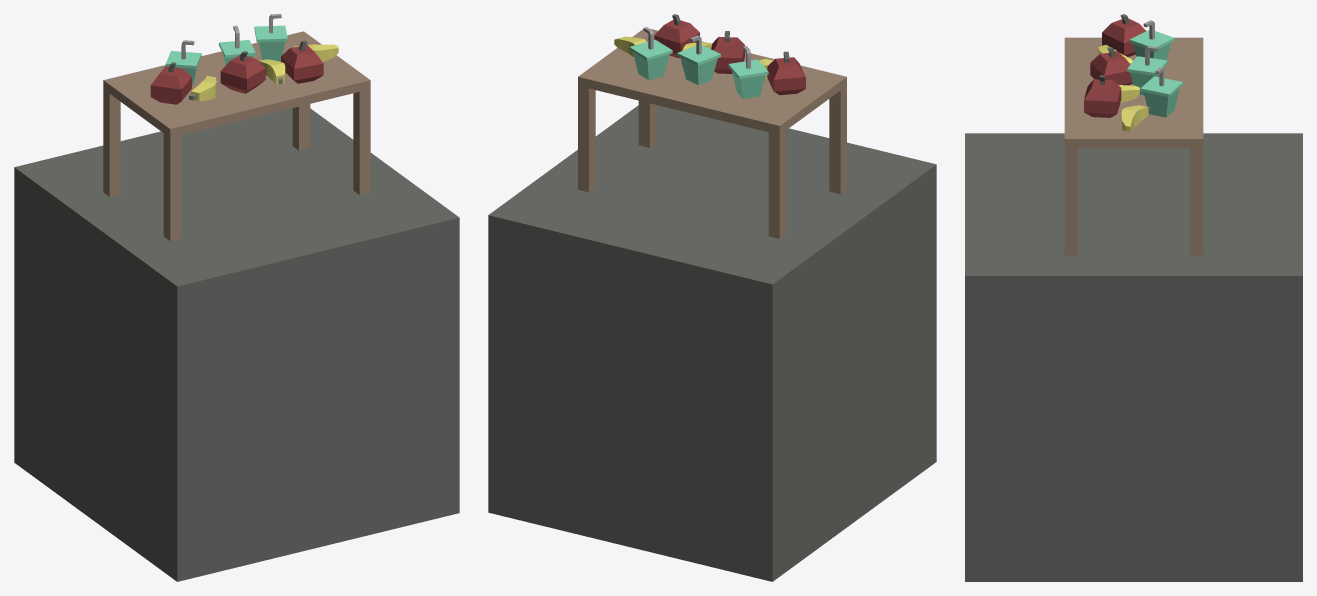
Rendered from food_block.fbx.
The picture shows the model from 3 angles, left to right: view 1: azimuth 30°, elevation 25°; view 2: azimuth 150°, elevation 25°; view 3: azimuth 270°, elevation 25°; orthographic projection. The views are drawn at different scales.
Visible parts, largest first — view 1: food_block, table2, apple1, apple2, food_block1, food_drink7, food_drink9, food_drink8; view 2: food_block, table2, food_drink8, food_drink7, apple2, food_drink9, food_block1, apple1; view 3: food_block, table2, food_block1, food_drink7, apple1, apple2, food_drink9, food_drink8, banana1.
Boxes of the visible parts, x1,y1,x2,y2 form: food_block: [14, 108, 459, 581]; table2: [103, 31, 370, 241]; apple1: [220, 51, 265, 93]; apple2: [150, 62, 191, 104]; food_block1: [281, 40, 323, 83]; food_drink7: [254, 14, 287, 61]; food_drink9: [165, 40, 201, 85]; food_drink8: [219, 25, 255, 65]; food_block: [488, 105, 936, 581]; table2: [578, 29, 846, 238]; food_drink8: [677, 35, 720, 85]; food_drink7: [629, 27, 672, 80]; apple2: [767, 51, 805, 95]; food_drink9: [728, 46, 768, 98]; food_block1: [654, 14, 699, 58]; apple1: [711, 31, 744, 73]; food_block: [965, 133, 1302, 581]; table2: [1064, 37, 1203, 255]; food_block1: [1084, 75, 1121, 117]; food_drink7: [1140, 67, 1183, 117]; apple1: [1090, 47, 1132, 85]; apple2: [1102, 14, 1145, 56]; food_drink9: [1129, 20, 1174, 60]; food_drink8: [1127, 46, 1167, 95]; banana1: [1121, 105, 1150, 131].
Bounding box in the file's own units: 5 × 7.64 × 5.
